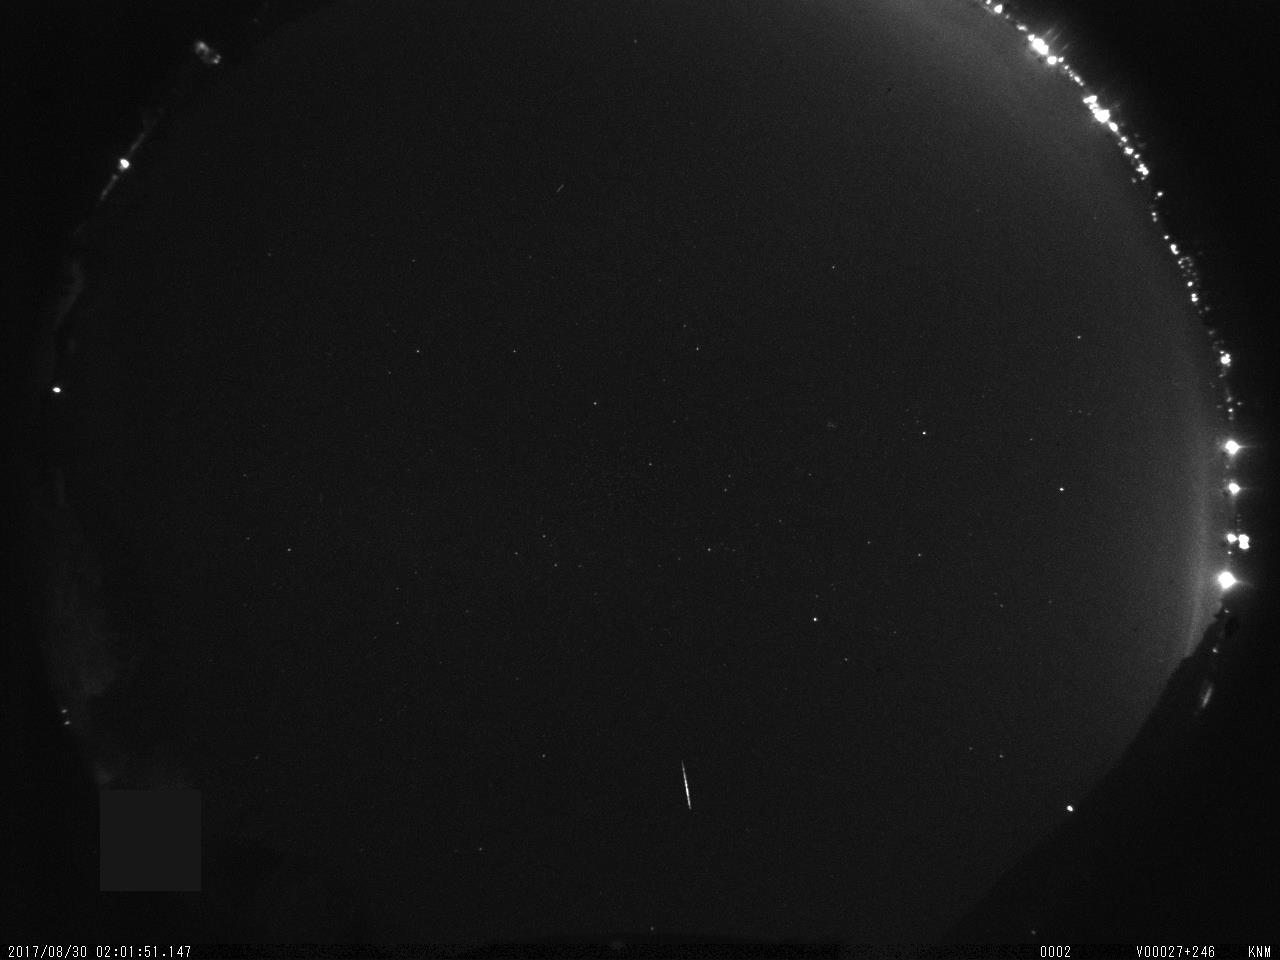meteor: (663, 749, 706, 824)
